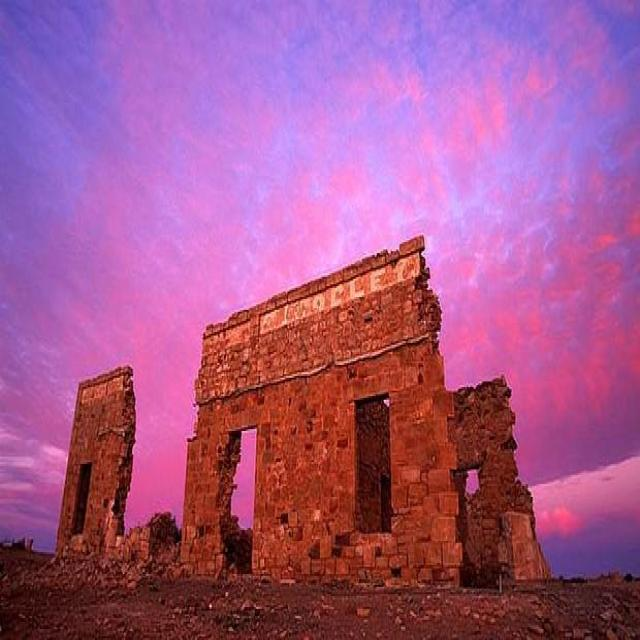other: (194, 267, 438, 368)
